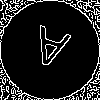A: (25, 25, 72, 79)
